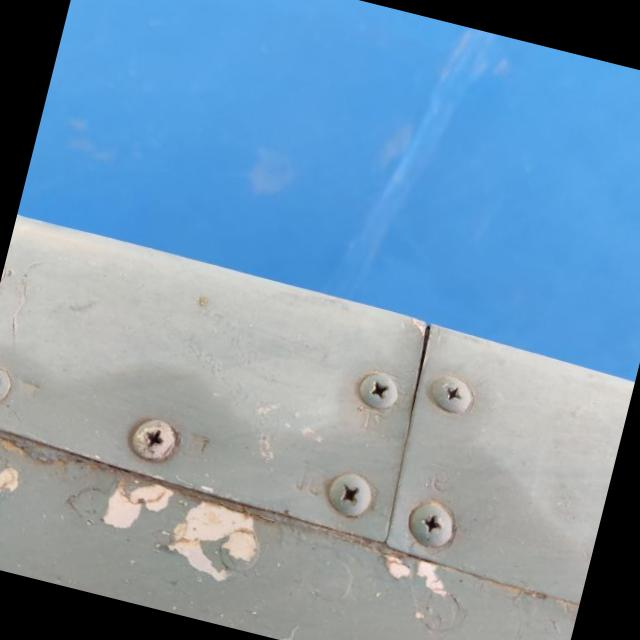Paint-off: (101, 479, 254, 582), (372, 545, 457, 615), (0, 458, 24, 512)
